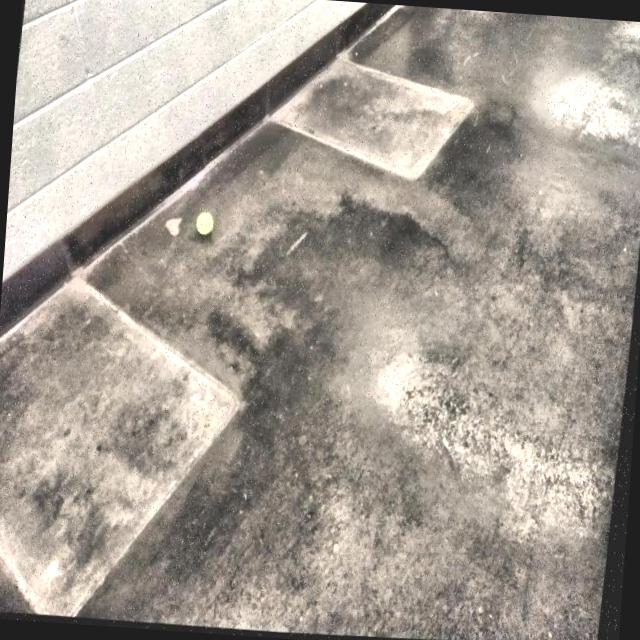Tennis Ball: (192, 207, 218, 242)
